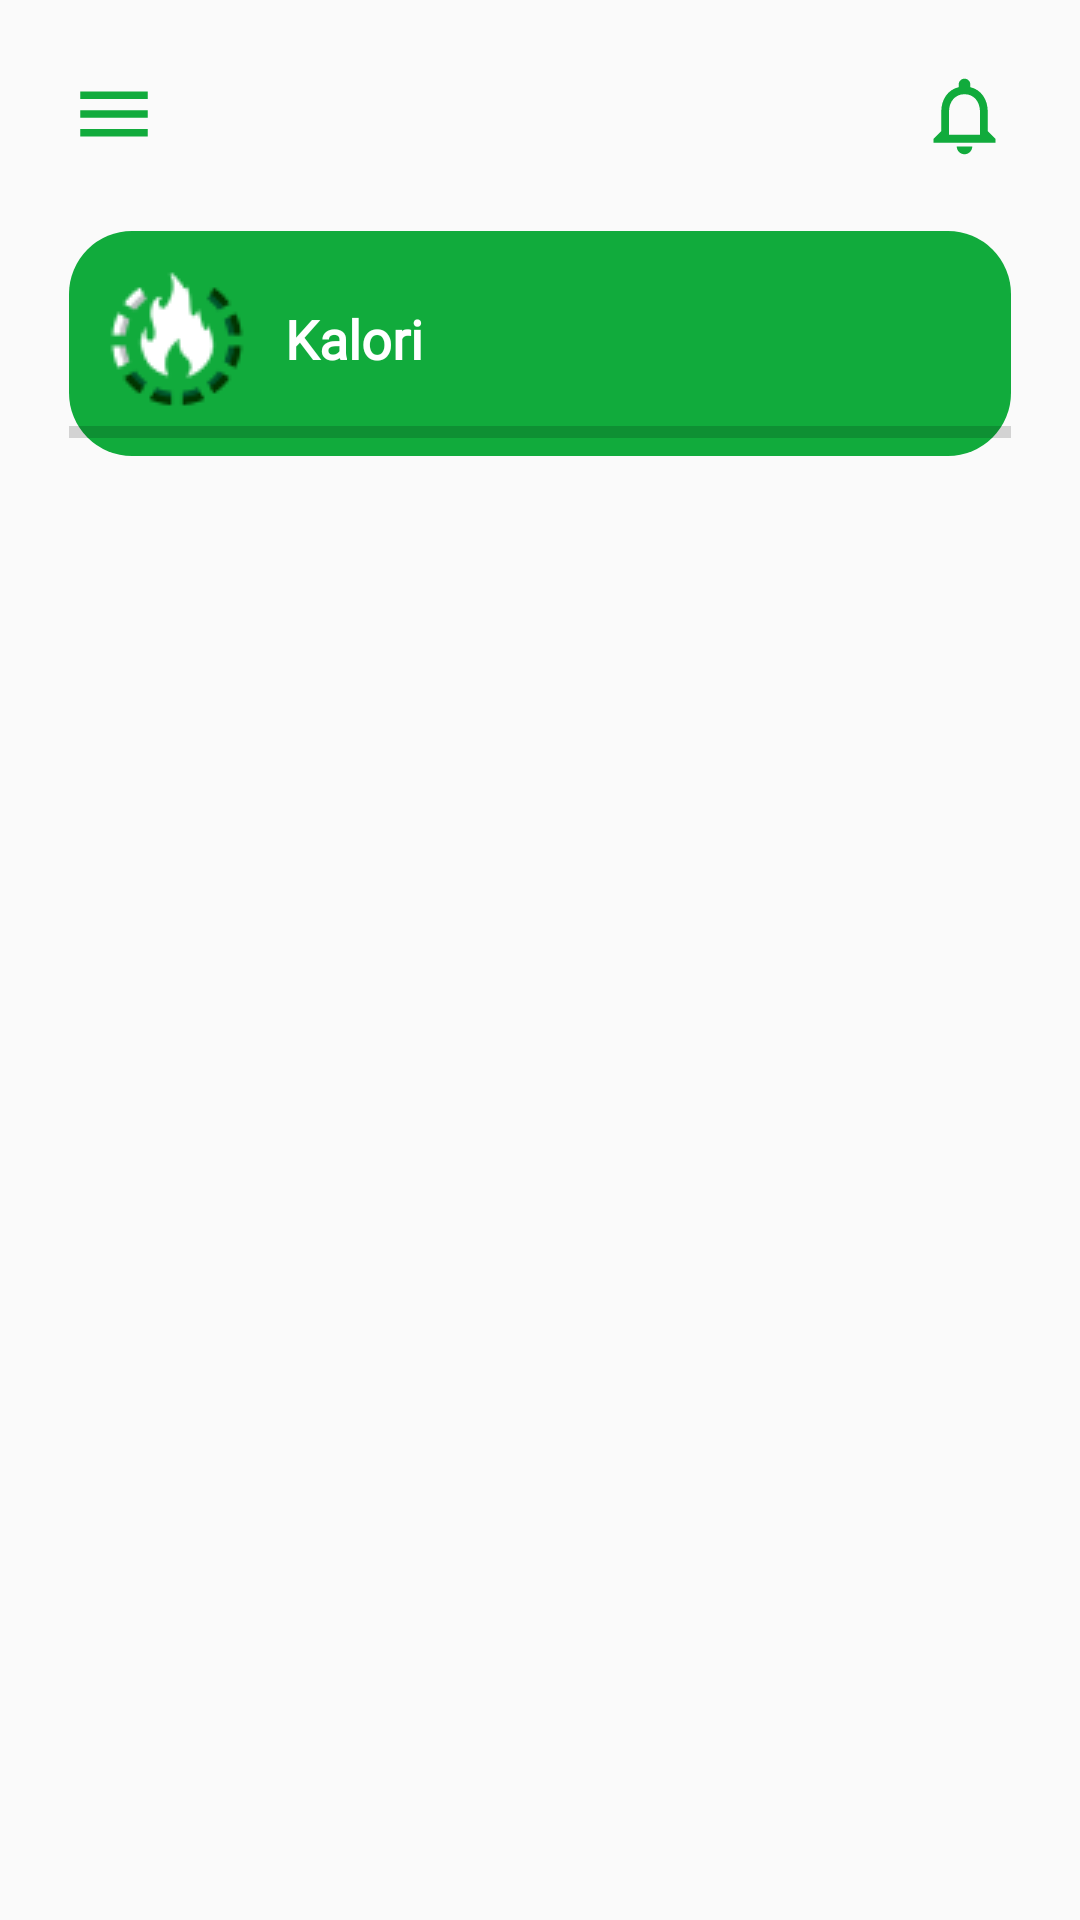

Point at icon controls on the screen. Image size 1080w x 1920h, points as (x=x, y=y).
menu: (x=114, y=114)
notifications: (x=964, y=116)
